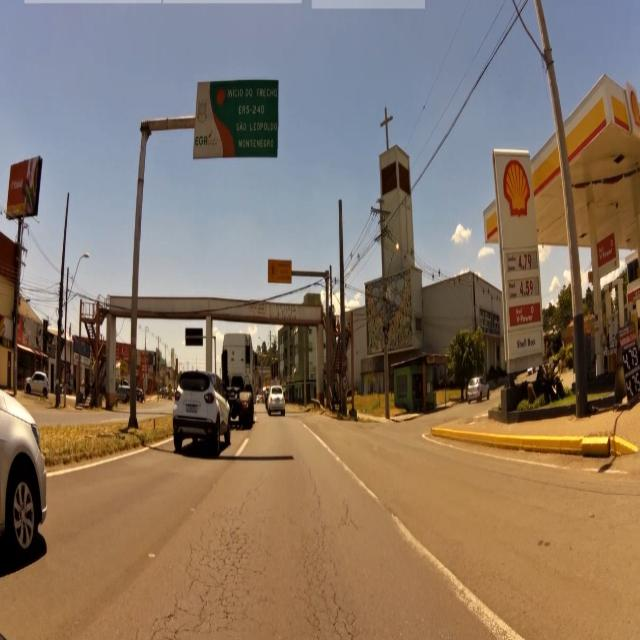I-4: (234, 80, 278, 157)
